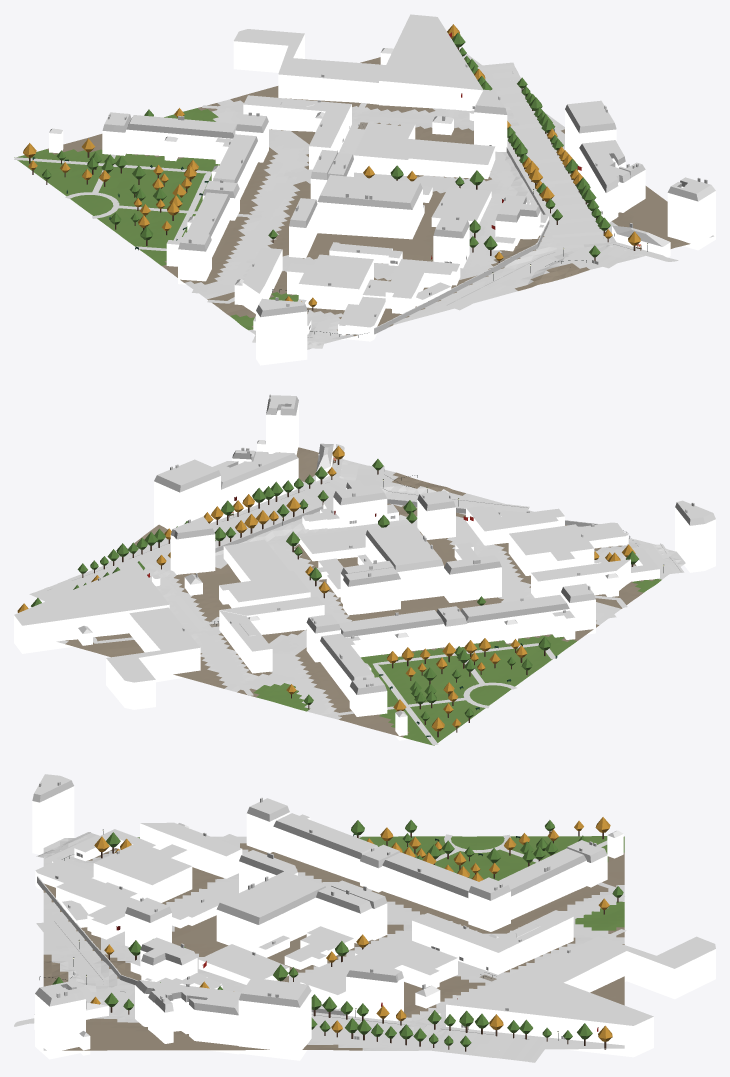
Rendered from zone_C5.glb.
3 renders of one model, top to bottom at view 1: azimuth 30°, elevation 25°; view 2: azimuth 150°, elevation 25°; view 3: azimuth 270°, elevation 25°, orthographic. The views are drawn at different scales.
Parts seen in each view (by area): view 1: zone_C5_batiments, zone_C5_terrain, zone_C5_sol_NOCOL, zone_C5_decor_NOCOL; view 2: zone_C5_batiments, zone_C5_terrain, zone_C5_sol_NOCOL, zone_C5_decor_NOCOL; view 3: zone_C5_batiments, zone_C5_terrain, zone_C5_sol_NOCOL, zone_C5_decor_NOCOL.
Boxes of the visible parts, x1,y1,x2,y2 form: zone_C5_batiments: (49, 14, 715, 365); zone_C5_terrain: (14, 47, 713, 349); zone_C5_sol_NOCOL: (14, 62, 678, 348); zone_C5_decor_NOCOL: (23, 24, 647, 337); zone_C5_batiments: (14, 394, 715, 740); zone_C5_terrain: (56, 447, 685, 745); zone_C5_sol_NOCOL: (29, 444, 684, 745); zone_C5_decor_NOCOL: (17, 445, 664, 737); zone_C5_batiments: (32, 774, 715, 1060); zone_C5_terrain: (43, 836, 624, 1050); zone_C5_sol_NOCOL: (14, 832, 626, 1062); zone_C5_decor_NOCOL: (39, 817, 623, 1051).
Size of the model in its own units: 220 by 30.94 by 257.
